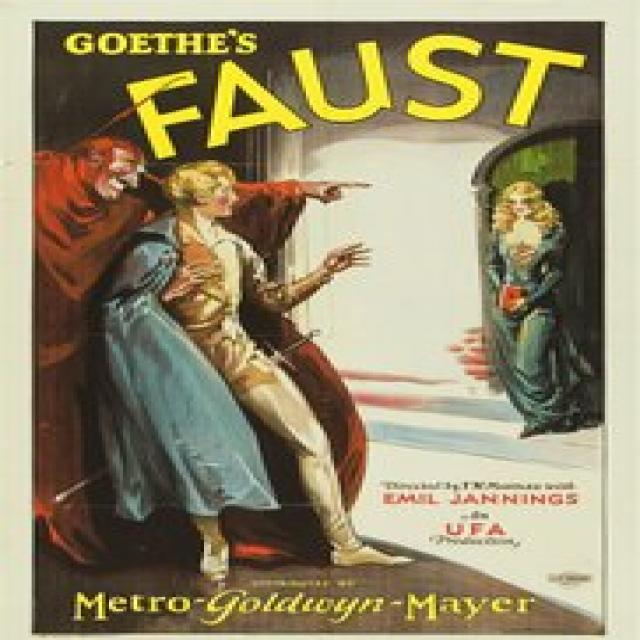movie-judul: (48, 22, 602, 160)
picture: (32, 21, 606, 634)
